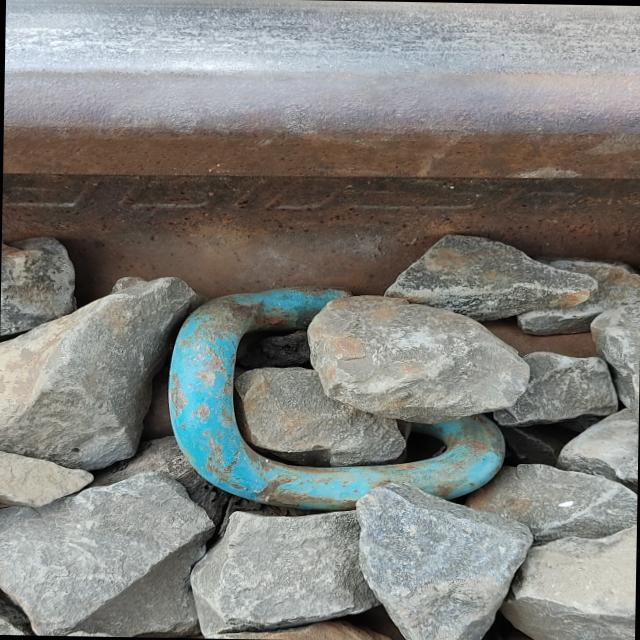track_bolt: (153, 276, 518, 523)
